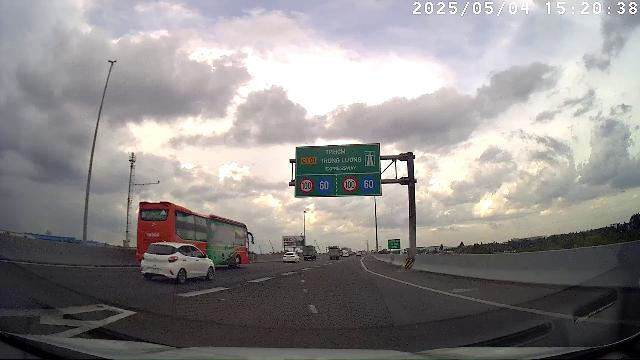127-toc-do-toi-da-100: (298, 176, 314, 194), (341, 176, 359, 192)
306-toc-do-toi-thieu-60: (316, 176, 334, 194), (361, 175, 377, 191)
437-bat-dau-duong-cao-toc: (364, 150, 376, 168)
